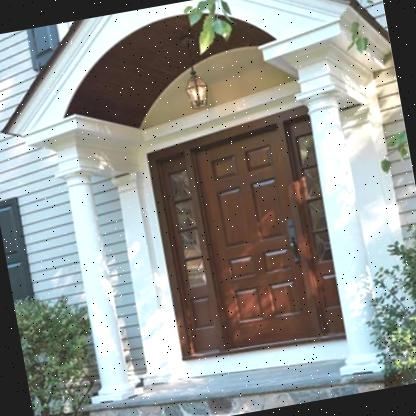door: (137, 99, 359, 372)
